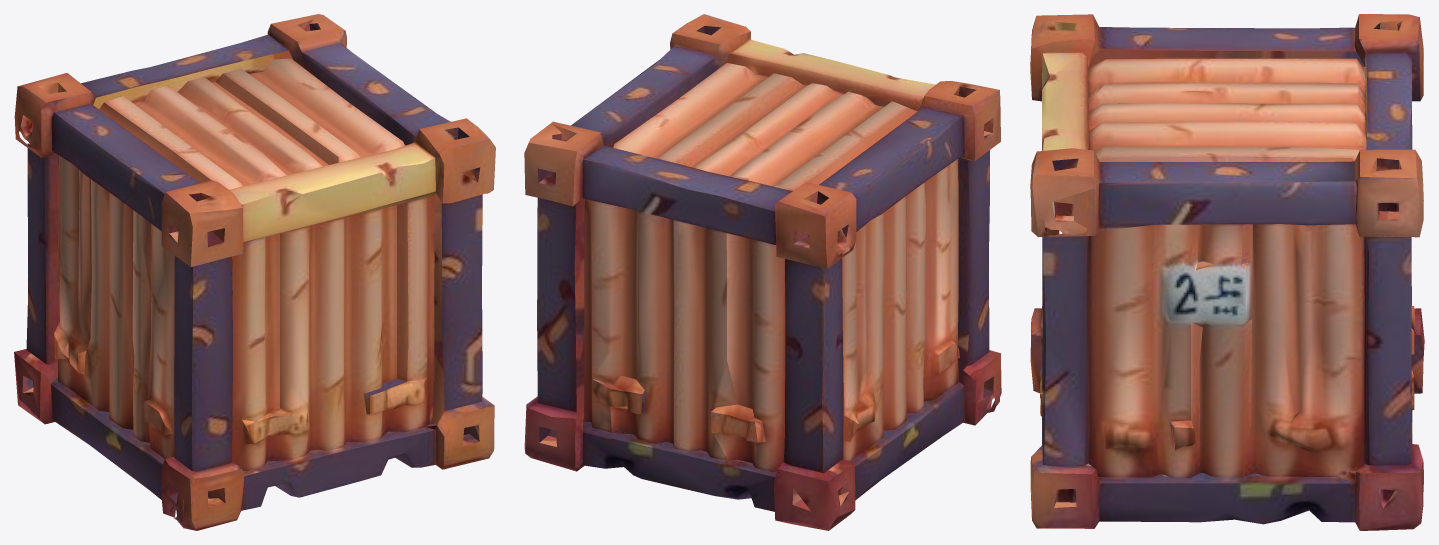
File: cargo_crate.glb
3 renders of one model, left to right at view 1: azimuth 30°, elevation 25°; view 2: azimuth 150°, elevation 25°; view 3: azimuth 270°, elevation 25°, orthographic. The views are drawn at different scales.
Visible parts, largest first — view 1: cargo_crate_s41; view 2: cargo_crate_s41; view 3: cargo_crate_s41.
Boxes of the visible parts, left/top/right/bottom form: cargo_crate_s41: left=14, top=14, right=495, bottom=530; cargo_crate_s41: left=524, top=14, right=1001, bottom=530; cargo_crate_s41: left=1030, top=14, right=1424, bottom=530.
Bounding box in the file's own units: 1 × 0.991 × 0.9929.
Materials: 1 (1 with a texture image).
